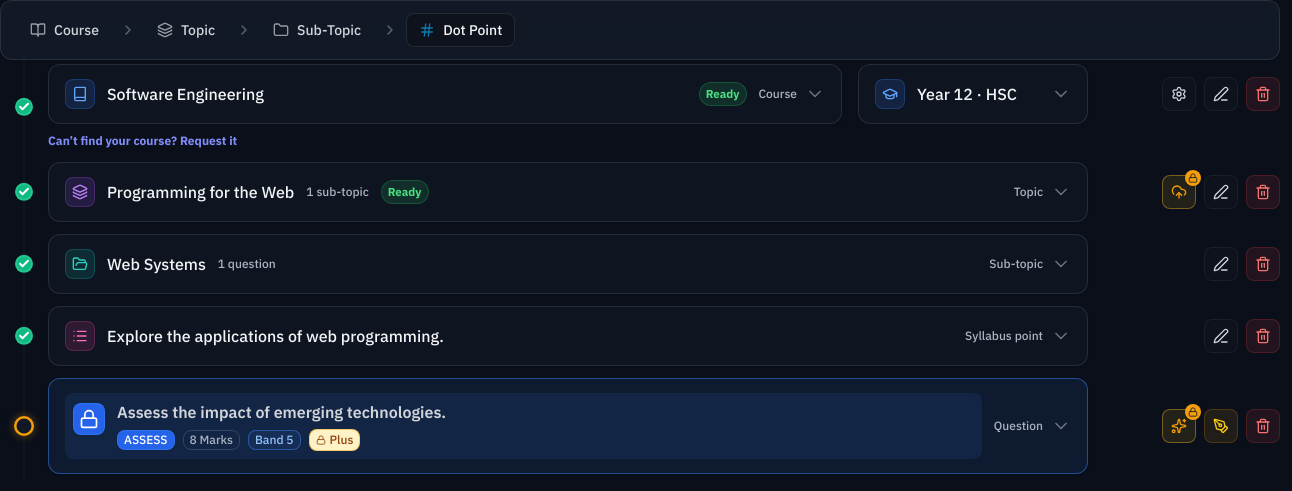
Test: the cleared-question notice, driven from the breadcrumb › names the level the Topic crumb returns to
Click the button "Topic": point(186, 30) [144, 13, 228, 47]
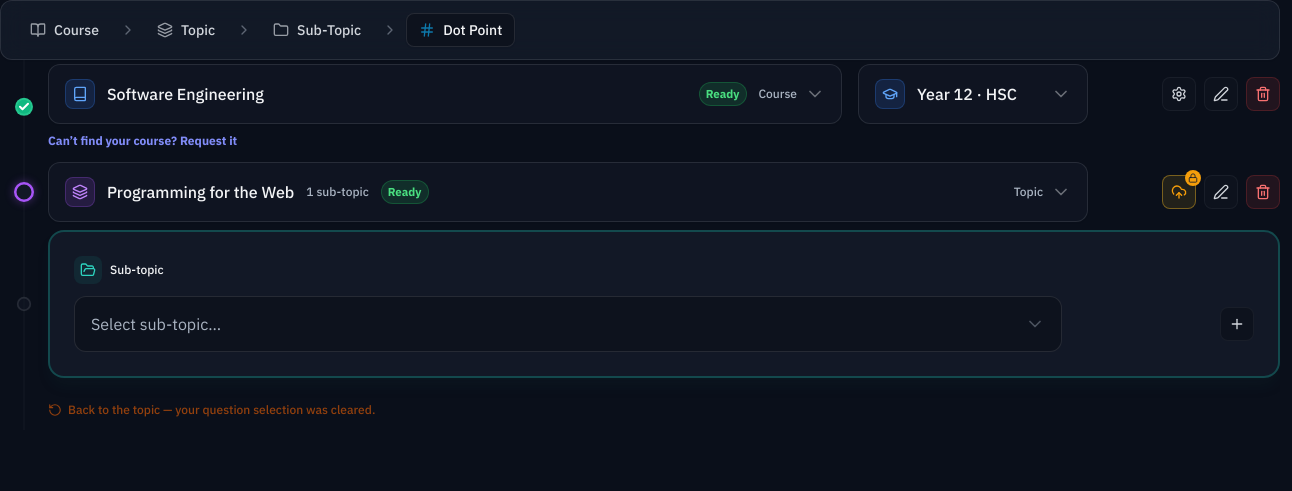
Now the message reads "Back to the topic — your question selection was cleared.", box [68, 402, 375, 417]
